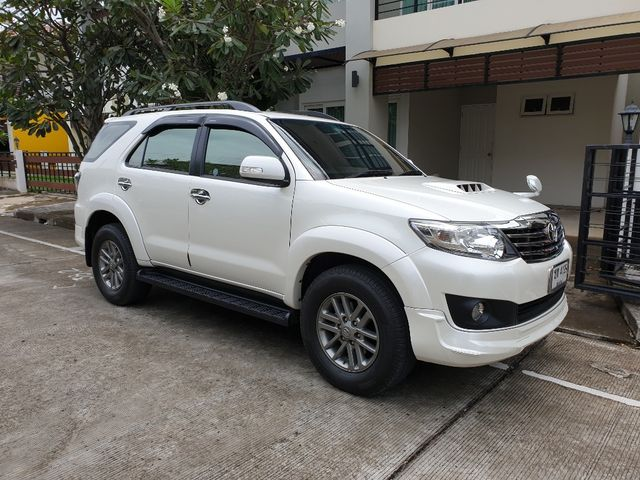pickup: (75, 99, 573, 397)
